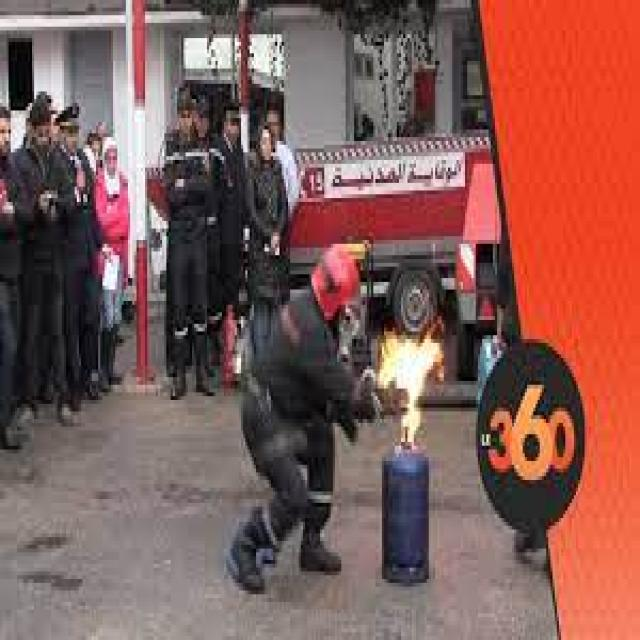pompier: (296, 140, 500, 340)
